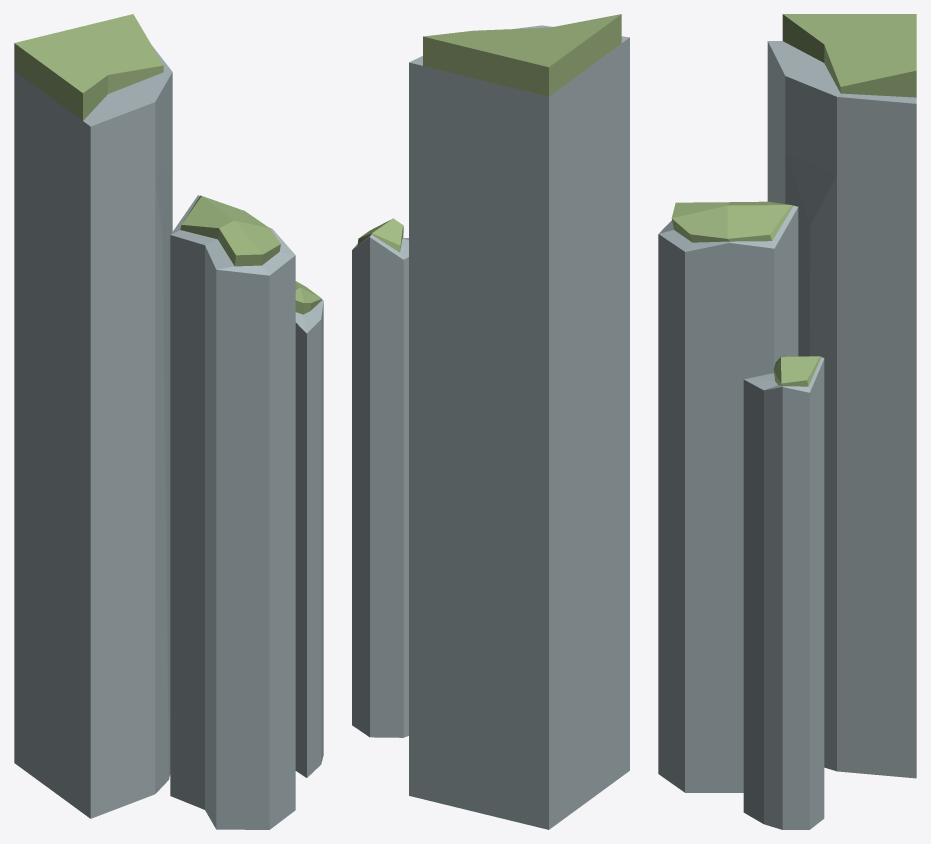
File: Dual_Grid_L_W_W_W_03.fbx
3 renders of one model, left to right at view 1: azimuth 30°, elevation 25°; view 2: azimuth 150°, elevation 25°; view 3: azimuth 270°, elevation 25°, orthographic. The views are drawn at different scales.
Visible parts, largest first — view 1: Tile_L_W_W_W_03; view 2: Tile_L_W_W_W_03; view 3: Tile_L_W_W_W_03.
Part boxes in pixels (bbox=[...]): Tile_L_W_W_W_03: bbox=[14, 14, 323, 829]; Tile_L_W_W_W_03: bbox=[352, 14, 629, 829]; Tile_L_W_W_W_03: bbox=[658, 14, 916, 829].
Bounding box in the file's own units: 90.94 × 86.71 × 260.
